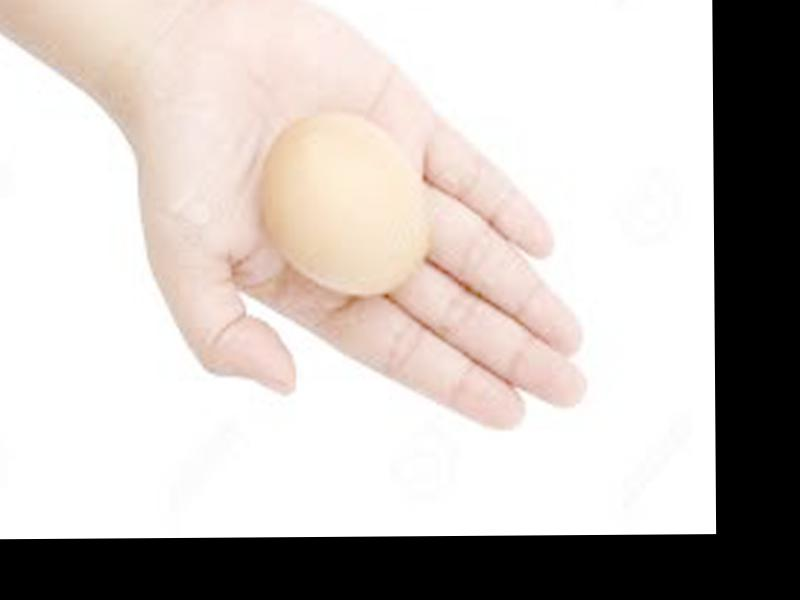Eggs: (258, 112, 425, 294)
